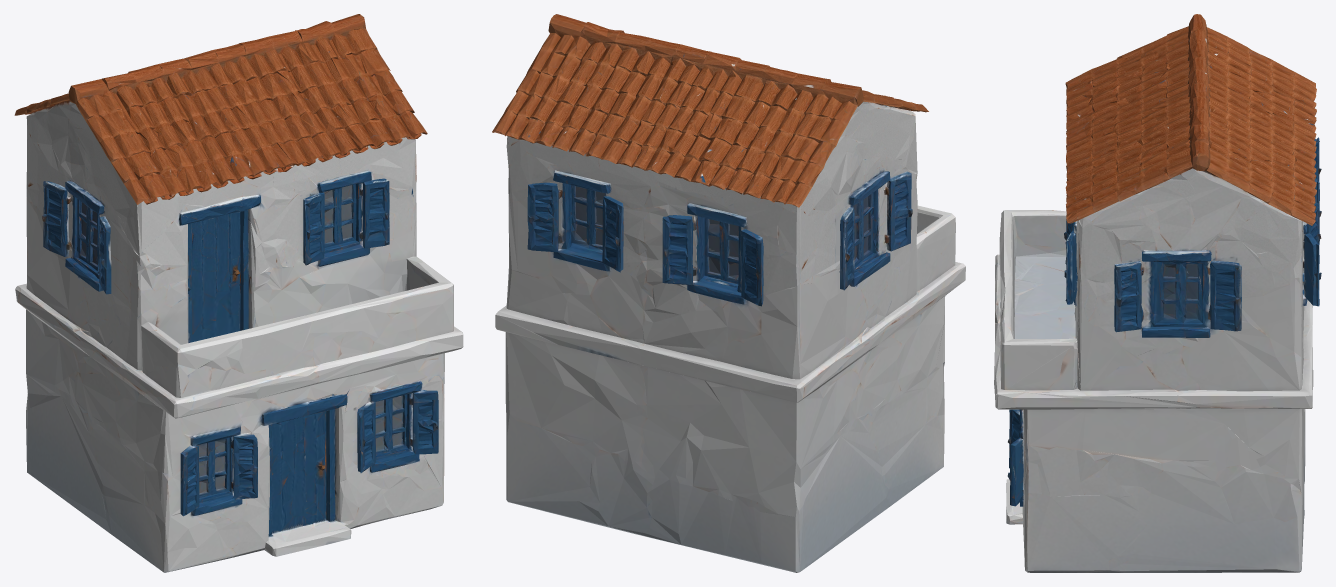
File: villa.glb
The picture shows the model from 3 angles, left to right: view 1: azimuth 30°, elevation 25°; view 2: azimuth 150°, elevation 25°; view 3: azimuth 270°, elevation 25°; orthographic projection. The views are drawn at different scales.
Size of the model in its own units: 1.45 by 1.9 by 1.34.
Materials: 1 (1 with a texture image).
